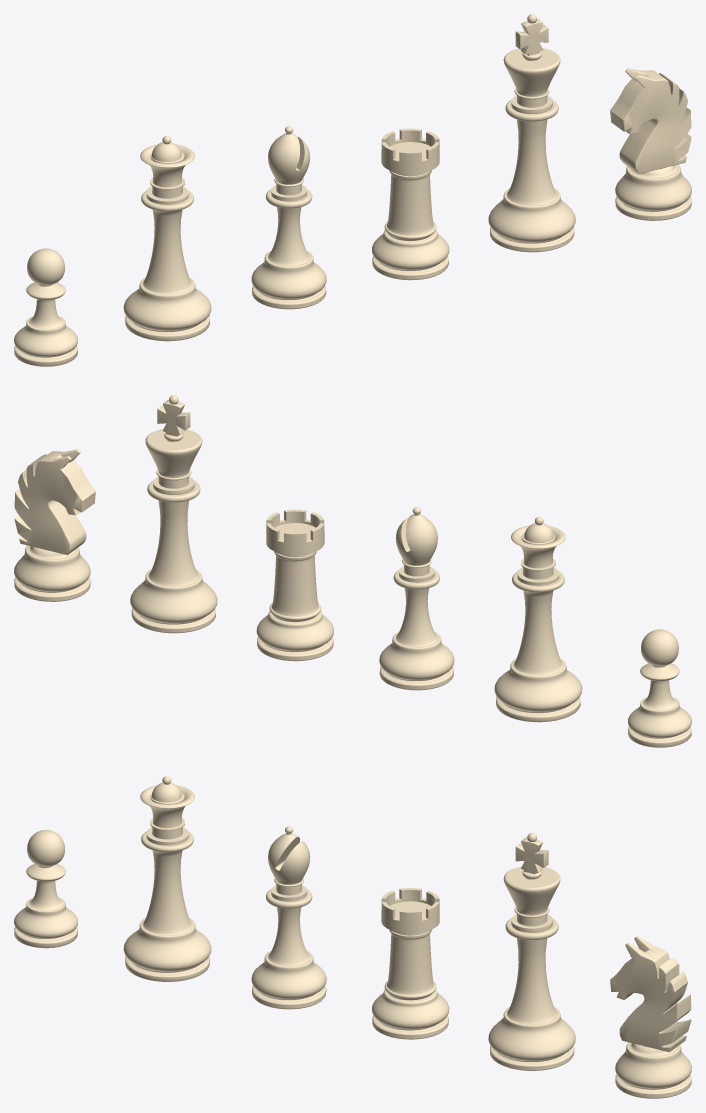
The model's file is chess_black.glb.
3 views of the same model, one above another, from view 1: azimuth 30°, elevation 25°; view 2: azimuth 150°, elevation 25°; view 3: azimuth 330°, elevation 25° (orthographic).
Visible parts, largest first — view 1: King, Knight, Queen, Rook, Bishop, Pawn; view 2: King, Knight, Queen, Rook, Bishop, Pawn; view 3: King, Queen, Knight, Rook, Bishop, Pawn.
Part boxes in pixels (x1,y1,x2,y2): King: [488, 14, 575, 252]; Knight: [610, 68, 691, 220]; Queen: [123, 136, 211, 341]; Rook: [372, 128, 449, 280]; Bishop: [251, 126, 326, 309]; Pawn: [14, 248, 77, 366]; King: [130, 395, 217, 633]; Knight: [14, 449, 95, 601]; Queen: [494, 517, 582, 722]; Rook: [256, 509, 333, 661]; Bishop: [379, 507, 454, 690]; Pawn: [628, 629, 691, 747]; King: [488, 833, 575, 1070]; Queen: [123, 776, 211, 981]; Knight: [610, 936, 691, 1098]; Rook: [372, 888, 449, 1039]; Bishop: [251, 826, 326, 1009]; Pawn: [14, 830, 77, 948].
Size of the model in its own units: 0.2752 by 0.0872 by 0.0313.
